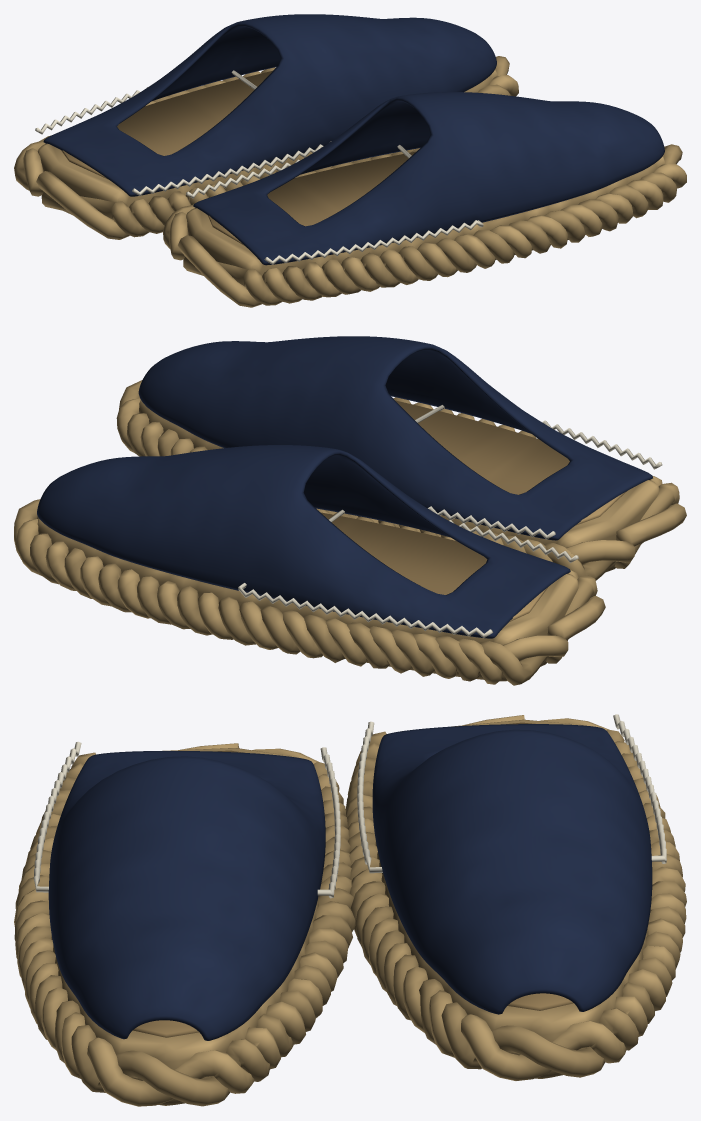
File: prop_alpargatas.glb
3 renders of one model, top to bottom at view 1: azimuth 30°, elevation 25°; view 2: azimuth 150°, elevation 25°; view 3: azimuth 270°, elevation 25°, orthographic. The views are drawn at different scales.
Parts seen in each view (by area): view 1: prop_alpargatas; view 2: prop_alpargatas; view 3: prop_alpargatas.
Part boxes in pixels (box(x1,y1,x2,y2)): prop_alpargatas: box(14, 14, 686, 307); prop_alpargatas: box(14, 336, 686, 685); prop_alpargatas: box(14, 714, 686, 1106).
Bounding box in the file's own units: 0.2982 × 0.0729 × 0.2346.
